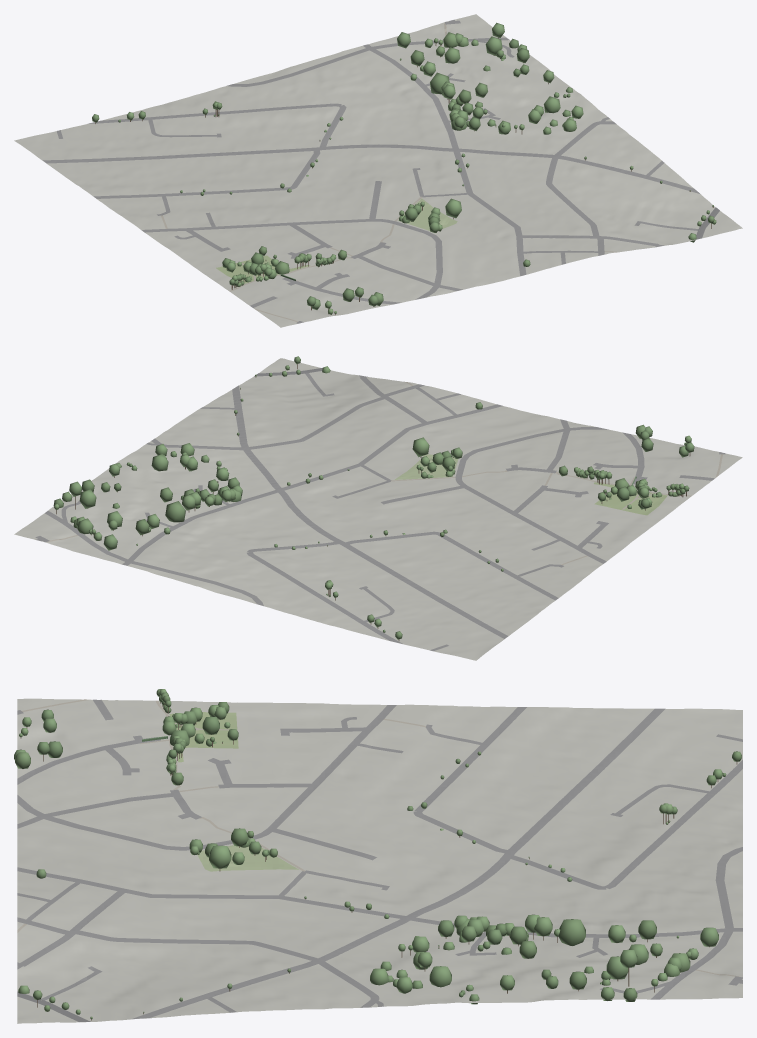
The picture shows the model from 3 angles, top to bottom: view 1: azimuth 30°, elevation 25°; view 2: azimuth 150°, elevation 25°; view 3: azimuth 270°, elevation 25°; orthographic projection. The views are drawn at different scales.
Visible parts, largest first — view 1: t06_14_terrain, t06_14_roads_minor, t06_14_trees_mapped, way/9113029@t06_14; view 2: t06_14_terrain, t06_14_roads_minor, t06_14_trees_mapped, way/352134599@t06_14, t06_14_roads_path, way/9113029@t06_14; view 3: t06_14_terrain, t06_14_roads_minor, t06_14_trees_mapped, way/9113029@t06_14, way/352134599@t06_14, t06_14_roads_path.
Boxes of the visible parts, <box> form: t06_14_terrain: <box>14,14,742,327</box>; t06_14_roads_minor: <box>42,19,700,323</box>; t06_14_trees_mapped: <box>92,22,716,314</box>; way/9113029@t06_14: <box>398,198,457,230</box>; t06_14_terrain: <box>14,358,742,660</box>; t06_14_roads_minor: <box>35,373,725,651</box>; t06_14_trees_mapped: <box>53,356,694,640</box>; way/352134599@t06_14: <box>594,482,667,515</box>; t06_14_roads_path: <box>48,381,723,565</box>; way/9113029@t06_14: <box>395,454,458,479</box>; t06_14_terrain: <box>17,698,742,1023</box>; t06_14_roads_minor: <box>17,699,742,1019</box>; t06_14_trees_mapped: <box>14,689,741,1020</box>; way/9113029@t06_14: <box>197,845,298,871</box>; way/352134599@t06_14: <box>169,712,238,762</box>; t06_14_roads_path: <box>17,699,739,976</box>.
Bounding box in the file's own units: 501 × 49.74 × 502.
